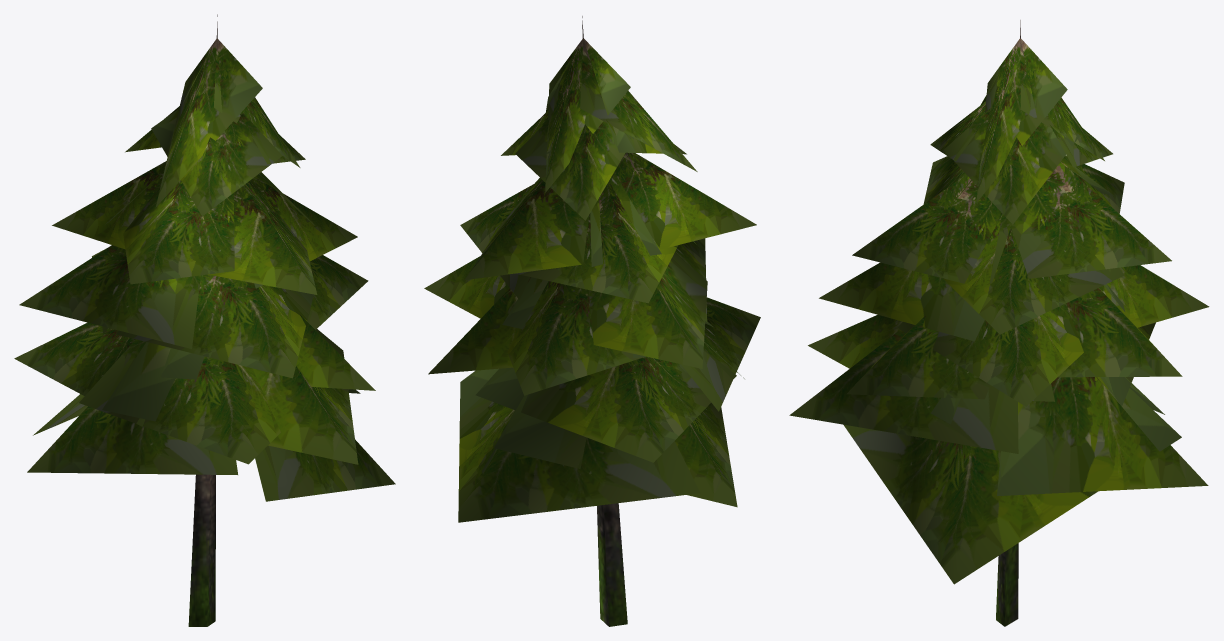
The model's file is Tree1.fbx.
3 views of the same model, side by side, from view 1: azimuth 30°, elevation 25°; view 2: azimuth 150°, elevation 25°; view 3: azimuth 270°, elevation 25° (orthographic). The views are drawn at different scales.
Visible parts, largest first — view 1: SM_NEU_TREEHY_02_L1_LOD0; view 2: SM_NEU_TREEHY_02_L1_LOD0; view 3: SM_NEU_TREEHY_02_L1_LOD0.
Part boxes in pixels (x1,y1,x2,y2): SM_NEU_TREEHY_02_L1_LOD0: (14, 14, 395, 626); SM_NEU_TREEHY_02_L1_LOD0: (424, 16, 760, 626); SM_NEU_TREEHY_02_L1_LOD0: (789, 20, 1209, 626).
Bounding box in the file's own units: 244 × 265 × 430.
Materials: 1 (1 with a texture image).
